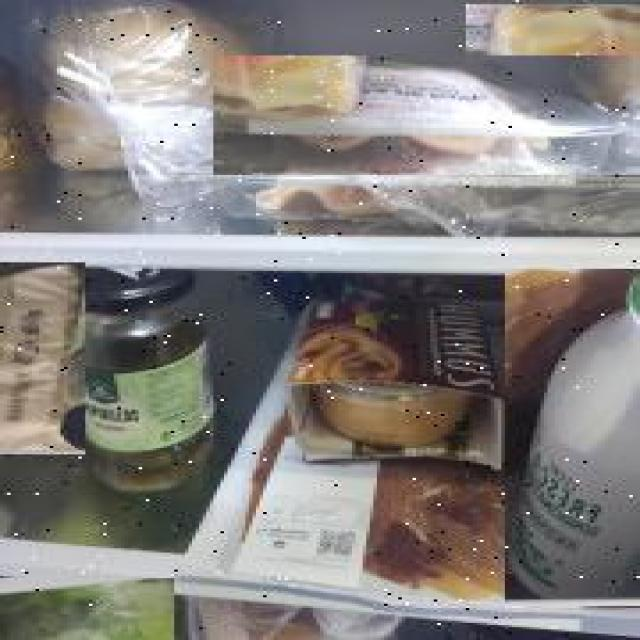bread: (0, 262, 85, 454)
cheese: (466, 4, 640, 113)
humus: (288, 298, 502, 472)
milk: (505, 269, 640, 606)
salad: (0, 578, 174, 640)
turkey: (213, 55, 640, 175)
